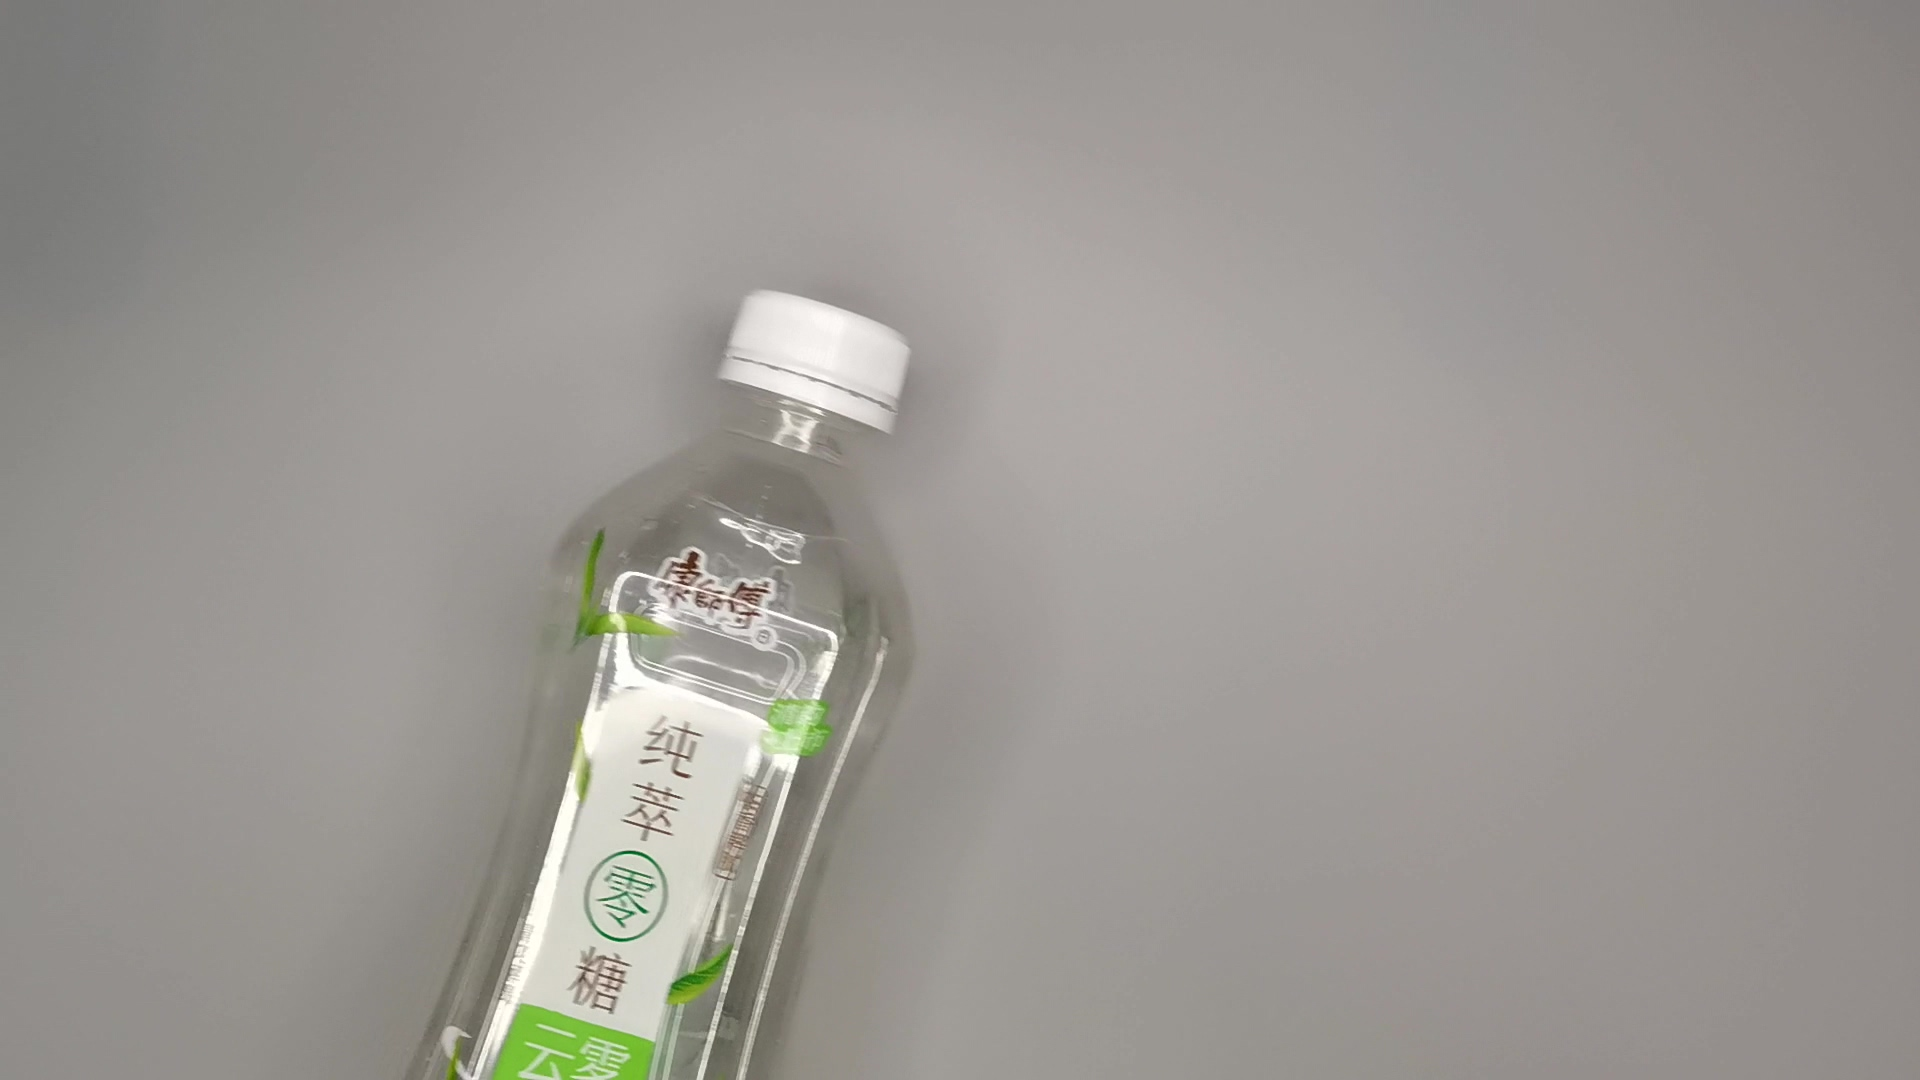bottle: (389, 278, 932, 1080)
